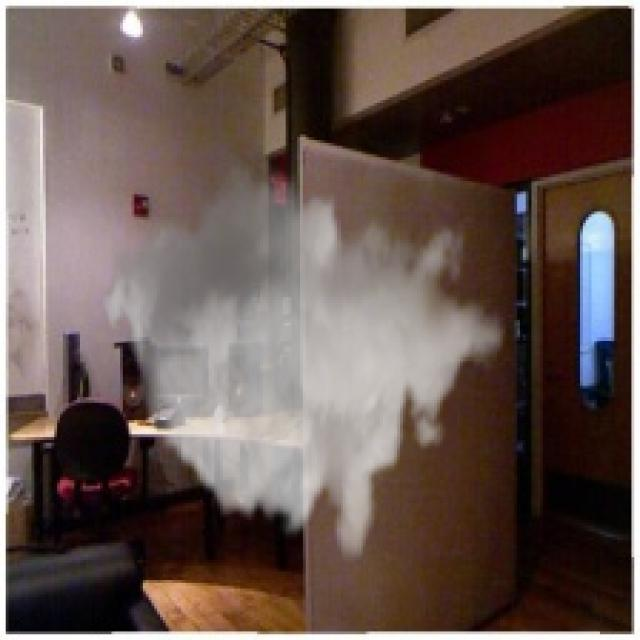Smoke: (97, 148, 506, 566)
